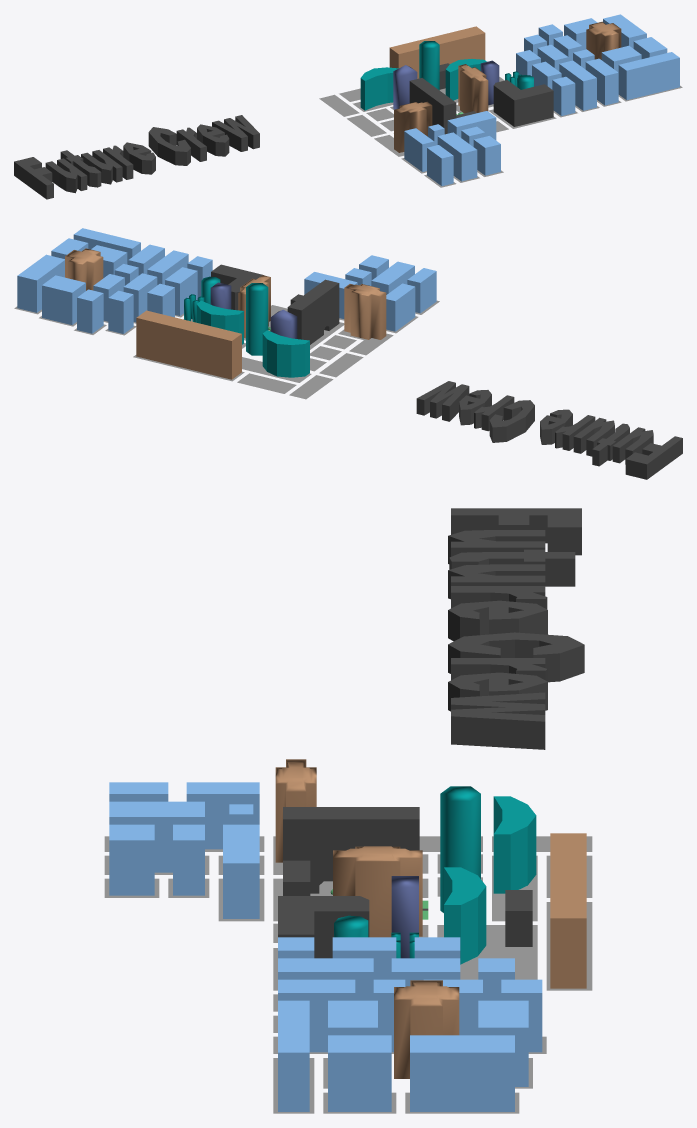
Rendered from citybbk.obj.
3 views of the same model, one above another, from view 1: azimuth 30°, elevation 25°; view 2: azimuth 150°, elevation 25°; view 3: azimuth 270°, elevation 25° (orthographic). The views are drawn at different scales.
Visible parts, largest first — view 1: citybbk; view 2: citybbk; view 3: citybbk.
Part boxes in pixels (x1,y1,x2,y2): citybbk: [14, 14, 682, 199]; citybbk: [14, 228, 682, 479]; citybbk: [104, 508, 592, 1113].
Size of the model in its own units: 3748 by 359 by 1337.
